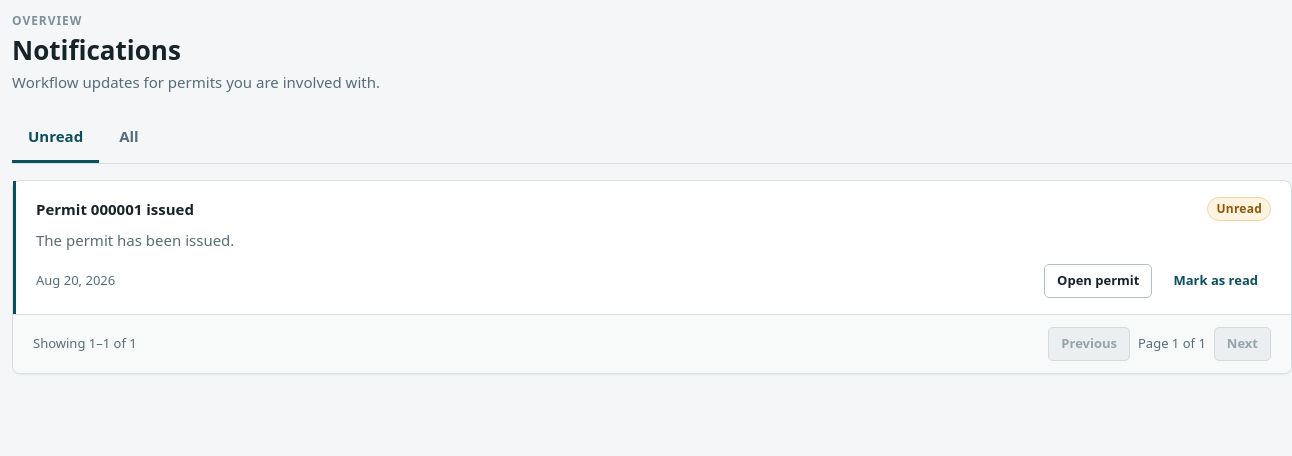
Test: marking as read › reports a 404 (someone else’s notification) without technical detail
This screenshot has width=1292, height=456.
Click the button "Mark as read": (1216,281) [1160, 264, 1271, 298]
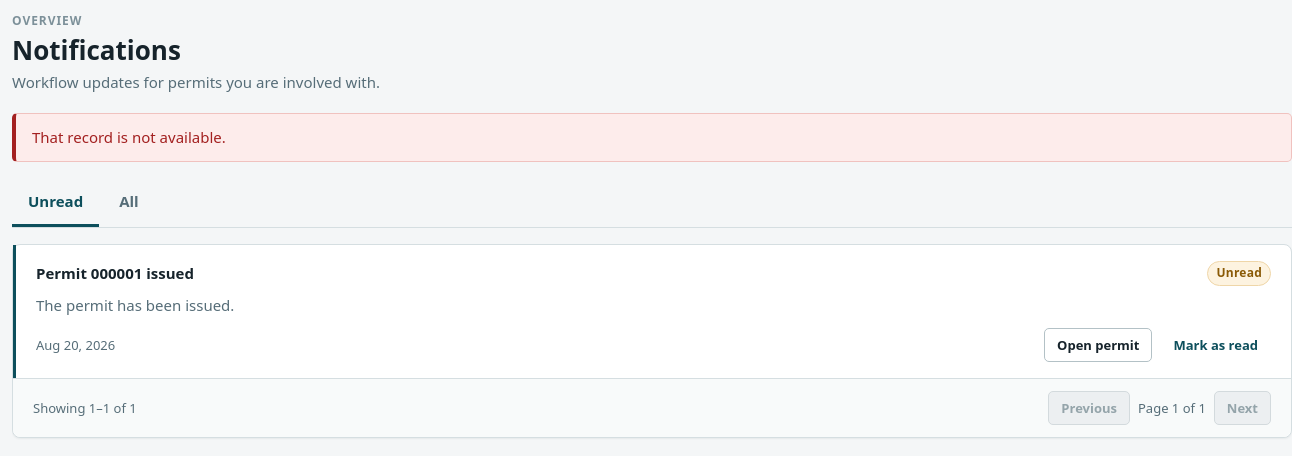
expect the text "That record is not available." is shown: met, box [32, 127, 226, 147]
